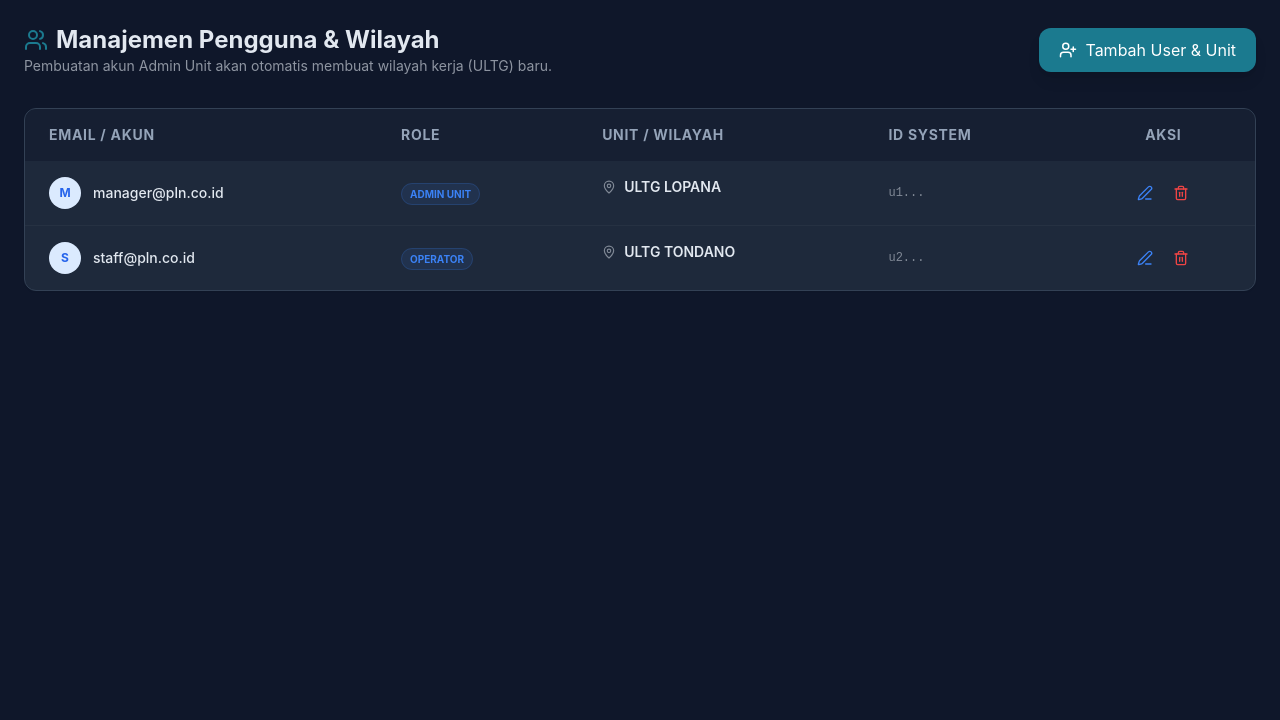
Test: UserManagementPage - White Box Testing › Secure Delete Flow › harus membuka modal konfirmasi saat tombol hapus diklik
The image size is (1280, 720).
What coordinates should you click on to do the following:
click the button titled "Hapus User" in the row of "manager@pln.co.id"
I would click on:
 (1181, 193)
Its box is x1=1165 y1=177 x2=1197 y2=209.
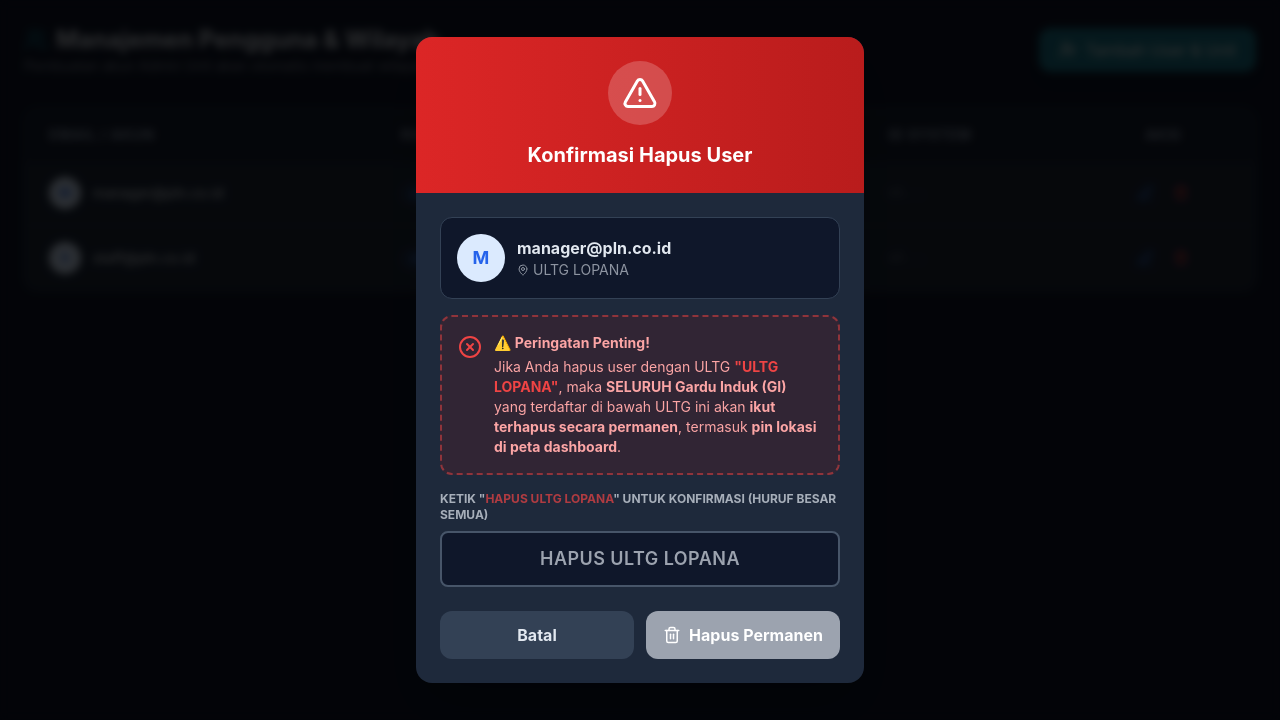
Result: the heading "Konfirmasi Hapus User" is shown at x1=528 y1=143 x2=752 y2=167
Result: the text "HAPUS ULTG LOPANA" is shown at x1=485 y1=491 x2=613 y2=506
